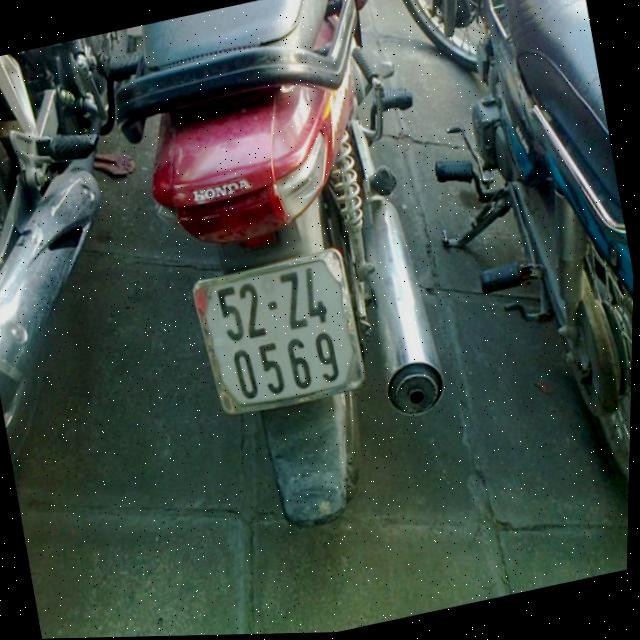motorcycle: (91, 0, 492, 552), (376, 0, 640, 563), (0, 31, 183, 448)
plate: (181, 240, 374, 426)
